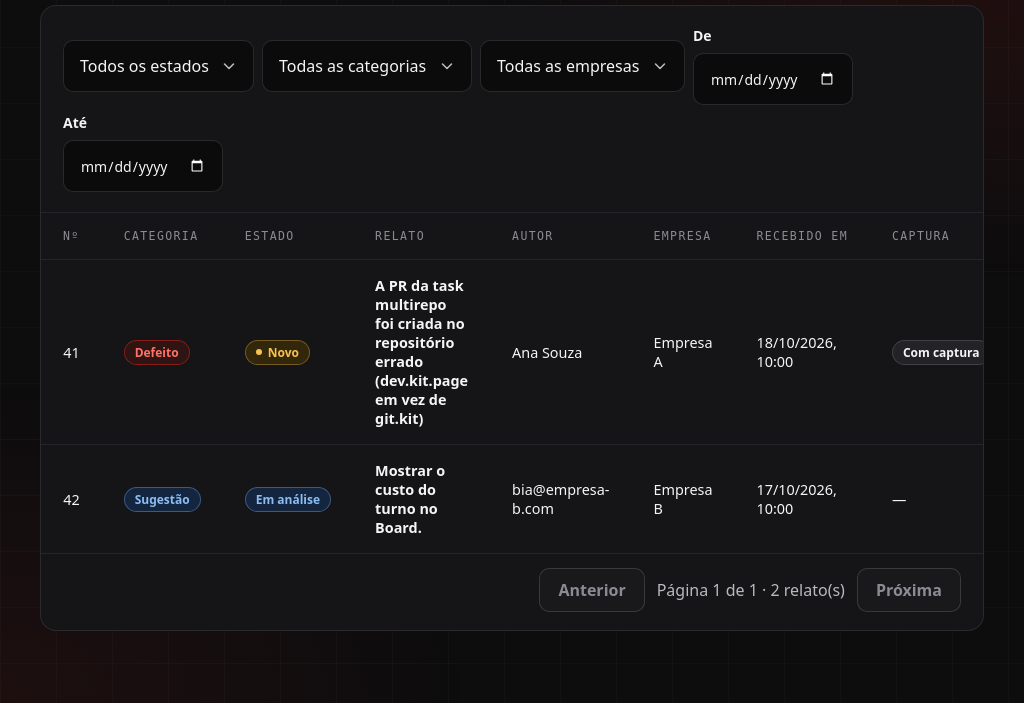
Relatos (US #602) › a resposta já dada aparece com quem respondeu
(page scrolled)
Click the button with aria-label "Abrir o relato 42:". click: x=422, y=499
box: [375,461,468,537]
(page scrolled)
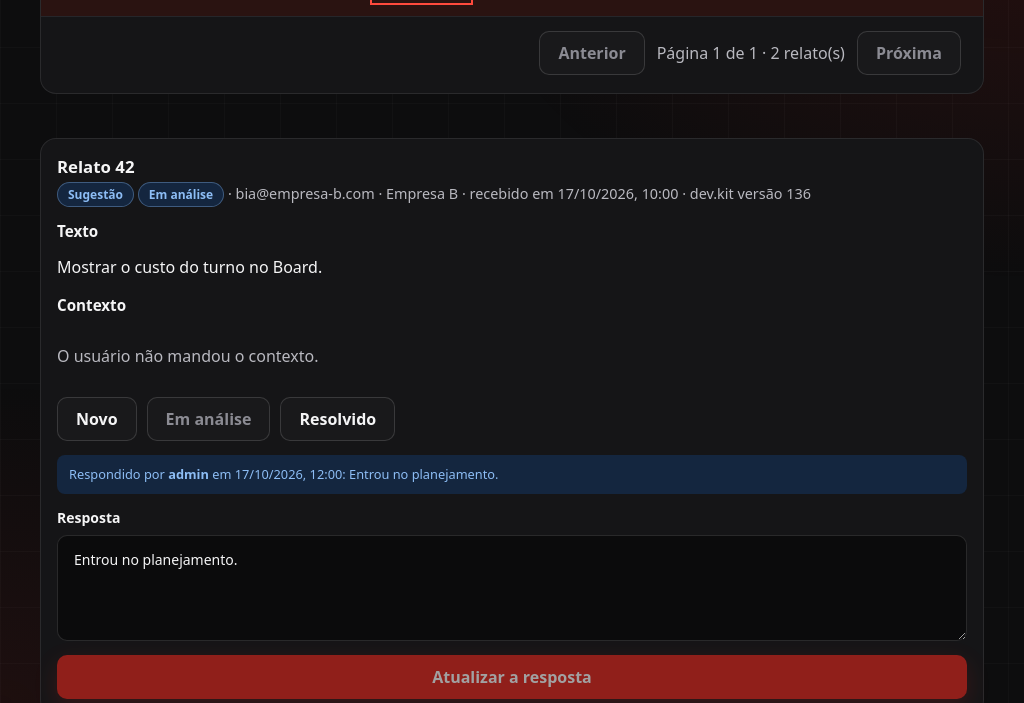
Expected: the element with test id "resposta-atual" shows "Respondido por admin", [57,455,967,494]
Expected: the text box labelled "Resposta" holds "Entrou no planejamento.", [57,535,967,641]
Expected: the button "Atualizar a resposta" is disabled, [57,655,967,699]
